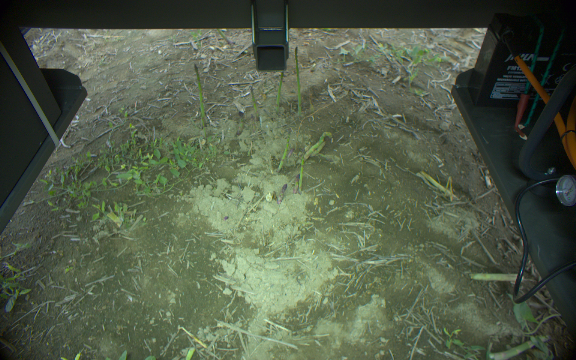aspa: (483, 331, 552, 360), (191, 60, 210, 130), (290, 43, 305, 111), (301, 130, 332, 162), (465, 266, 523, 283), (276, 127, 293, 174), (293, 145, 303, 194), (247, 86, 260, 121), (274, 71, 285, 111), (236, 107, 247, 137)
